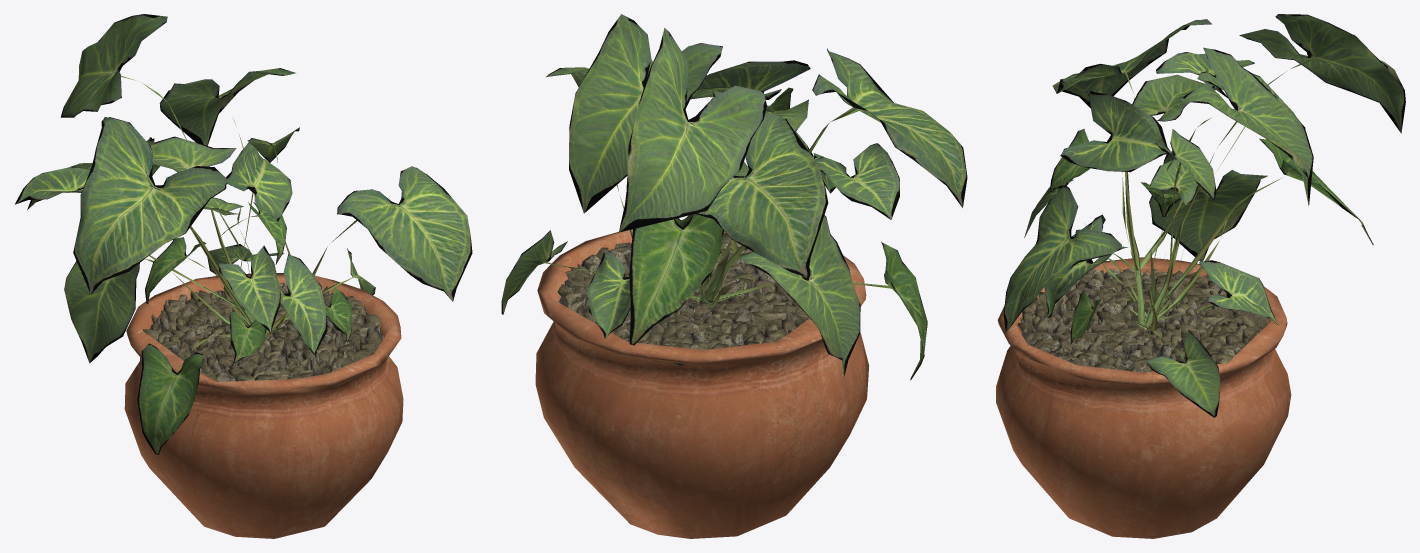
Rendered from ph-potted-plant-02-lite.glb.
3 views of the same model, side by side, from view 1: azimuth 30°, elevation 25°; view 2: azimuth 150°, elevation 25°; view 3: azimuth 270°, elevation 25° (orthographic). The views are drawn at different scales.
Visible parts, largest first — view 1: potted_plant_02_leaves, potted_plant_02_pot, potted_plant_02_dirt; view 2: potted_plant_02_leaves, potted_plant_02_pot, potted_plant_02_dirt; view 3: potted_plant_02_leaves, potted_plant_02_pot, potted_plant_02_dirt.
Part boxes in pixels (<box>): potted_plant_02_leaves: <box>15,14,472,454</box>; potted_plant_02_pot: <box>124,273,403,538</box>; potted_plant_02_dirt: <box>143,283,383,390</box>; potted_plant_02_leaves: <box>501,14,967,380</box>; potted_plant_02_pot: <box>535,229,869,538</box>; potted_plant_02_dirt: <box>557,232,809,366</box>; potted_plant_02_leaves: <box>1003,14,1405,417</box>; potted_plant_02_pot: <box>996,257,1291,538</box>; potted_plant_02_dirt: <box>1017,268,1268,372</box>.
Size of the model in its own units: 0.7009 by 0.8395 by 0.6553.
Materials: 2 (2 with a texture image).
